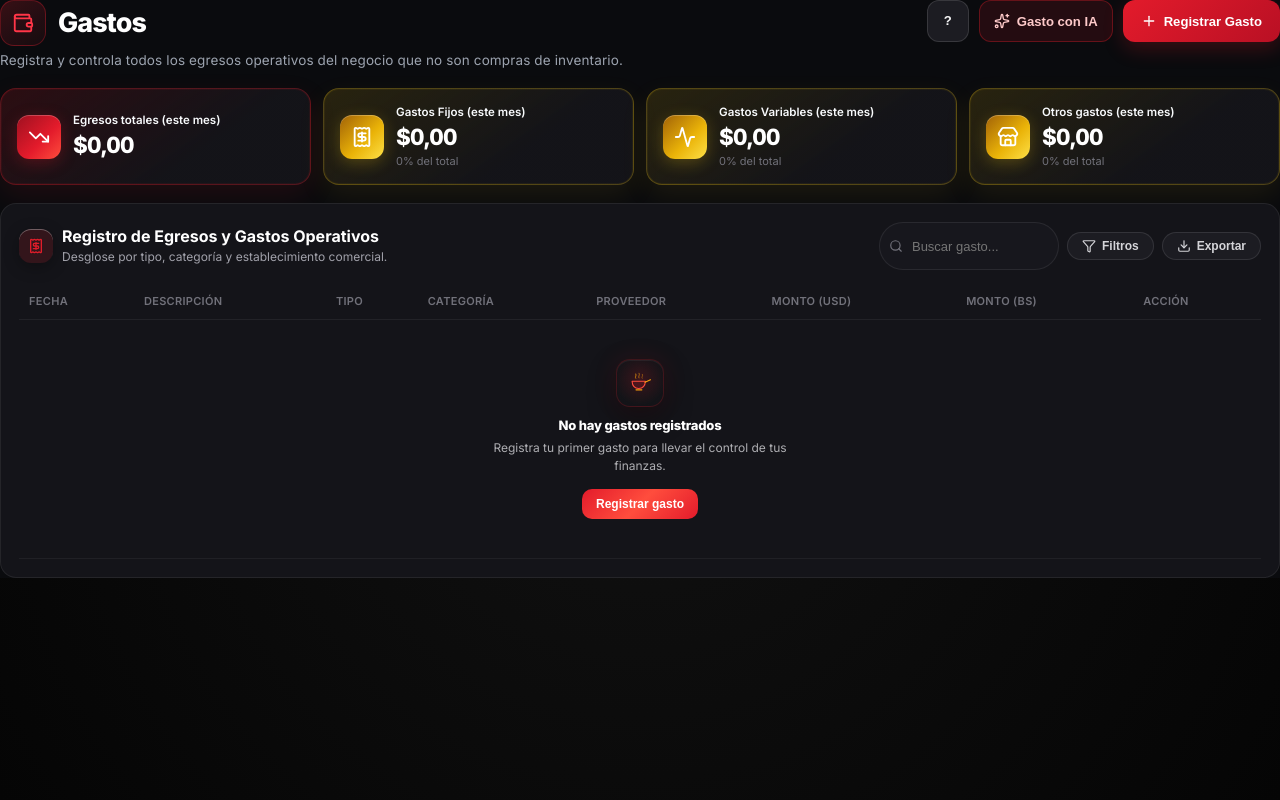
Test case: Acciones de Gastos › abre el formulario y enfoca la descripción desde el botón principal
Expected: the heading "No hay gastos registrados" is shown, x1=558 y1=417 x2=722 y2=433
Click the button "Registrar Gasto": (1201, 21) x1=1123 y1=0 x2=1279 y2=42
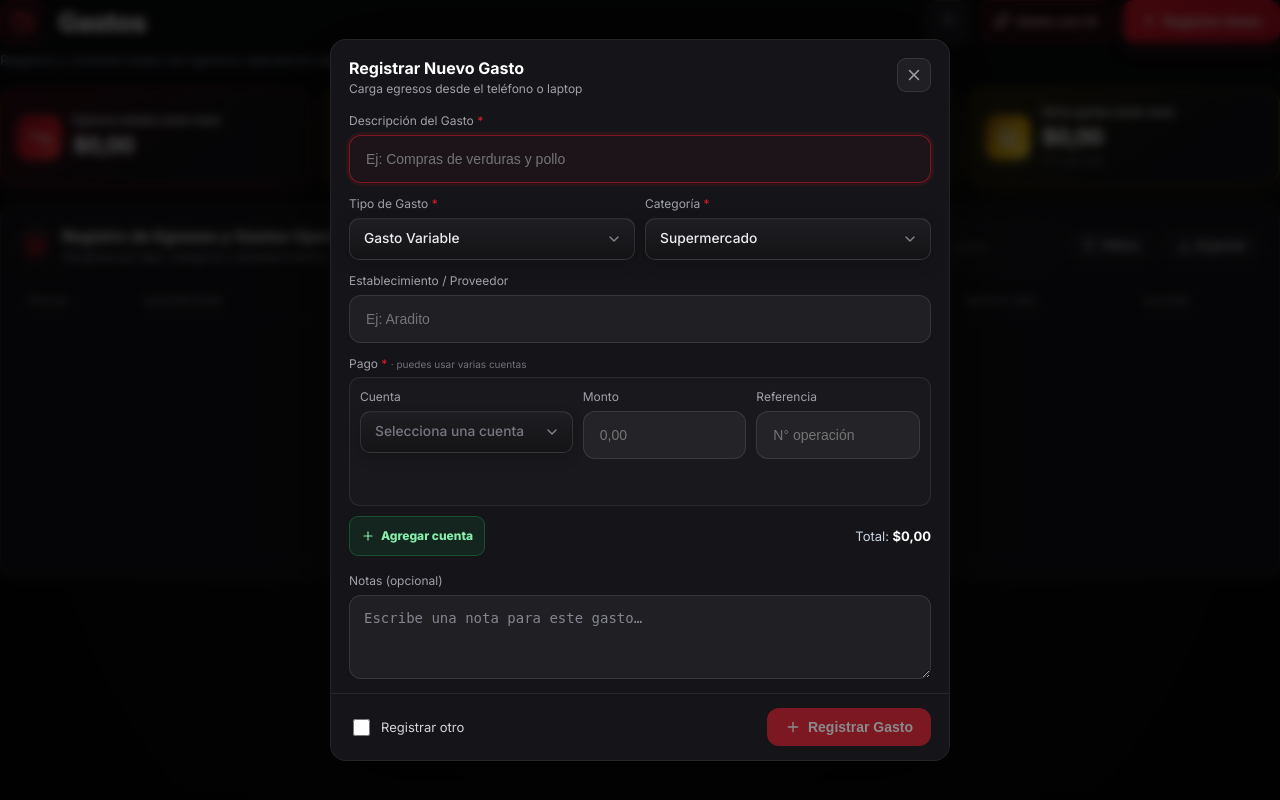
Expected: the dialog "Registrar Nuevo Gasto" is shown, x1=330 y1=39 x2=950 y2=761
